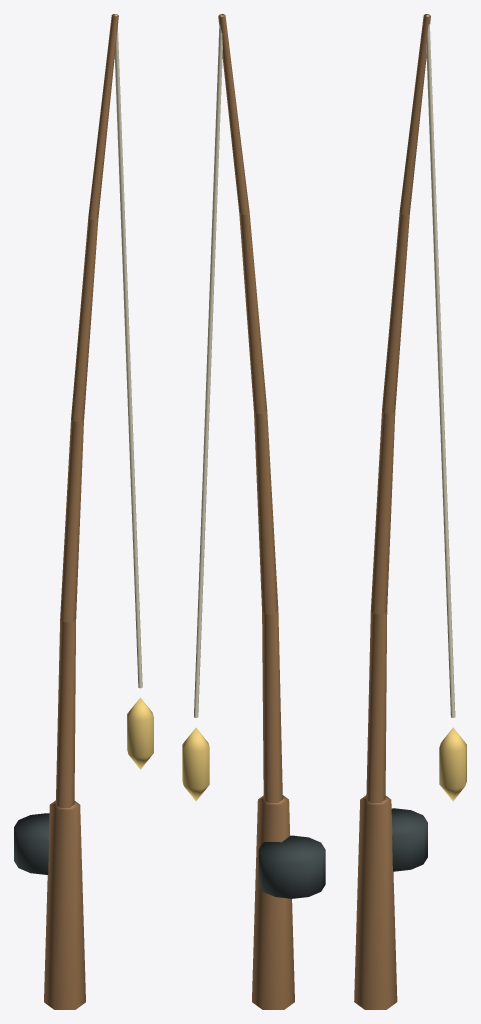
File: quest_fishing_rod.glb
3 renders of one model, left to right at view 1: azimuth 30°, elevation 25°; view 2: azimuth 210°, elevation 25°; view 3: azimuth 330°, elevation 25°, orthographic. The views are drawn at different scales.
Bounding box in the file's own units: 0.1841 × 1.48 × 0.124.
